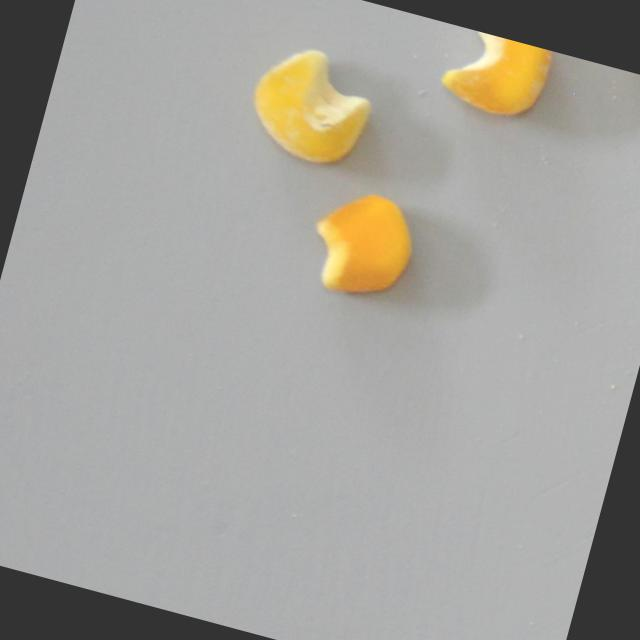no_canjicado: (301, 180, 426, 309)
pelicula: (241, 34, 384, 173), (434, 25, 557, 125)
